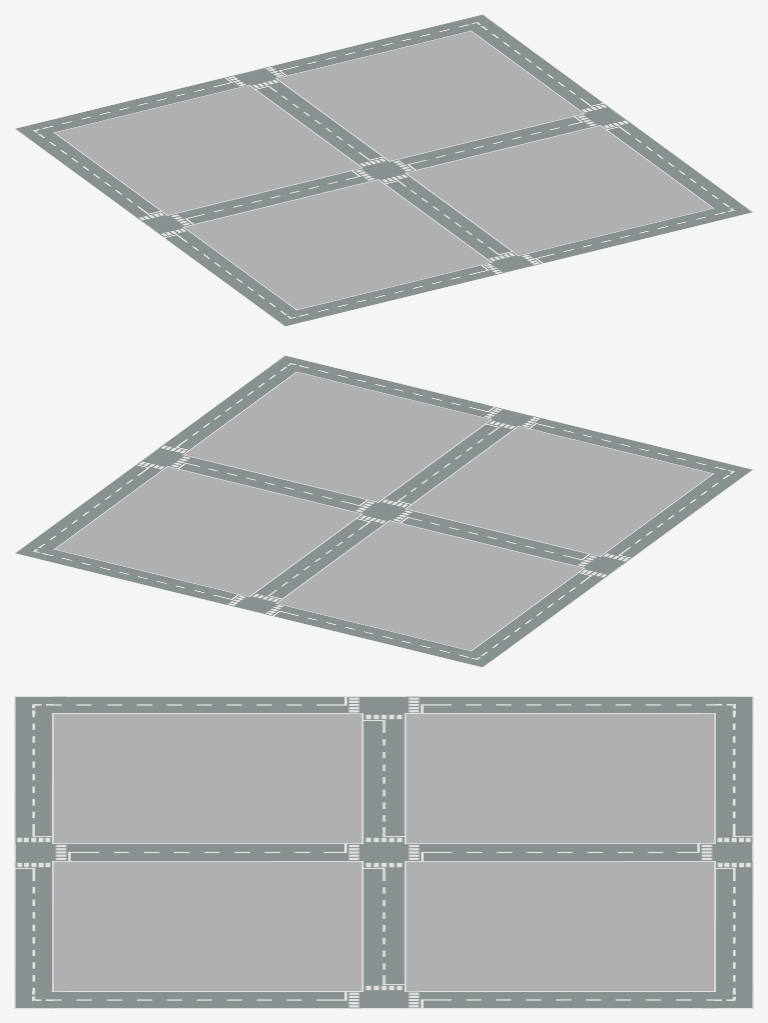
File: city_road (1).fbx
3 renders of one model, top to bottom at view 1: azimuth 30°, elevation 25°; view 2: azimuth 150°, elevation 25°; view 3: azimuth 270°, elevation 25°, orthographic. The views are drawn at different scales.
Parts seen in each view (by area): view 1: pPlane695; view 2: pPlane695; view 3: pPlane695.
Part boxes in pixels (x1,y1,x2,y2): pPlane695: (14, 14, 753, 326); pPlane695: (14, 355, 753, 667); pPlane695: (14, 696, 753, 1008).
Bounding box in the file's own units: 1000 × 0 × 1000.
